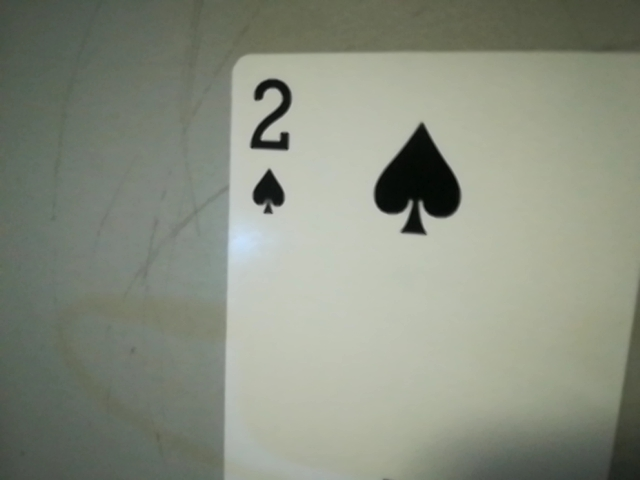ht 2: (233, 63, 312, 228)
